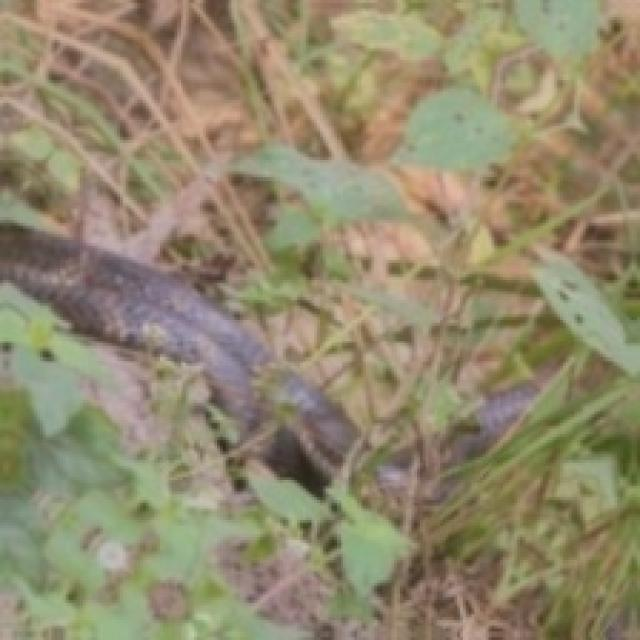king cobra: (0, 229, 362, 491), (449, 388, 535, 462), (374, 452, 416, 494)
